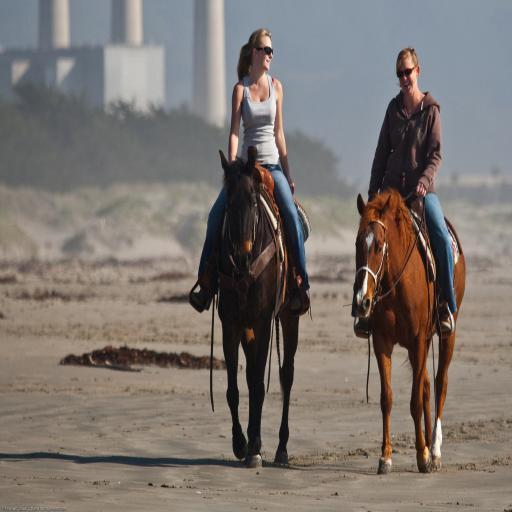horse: (348, 192, 470, 476), (216, 145, 300, 467)
